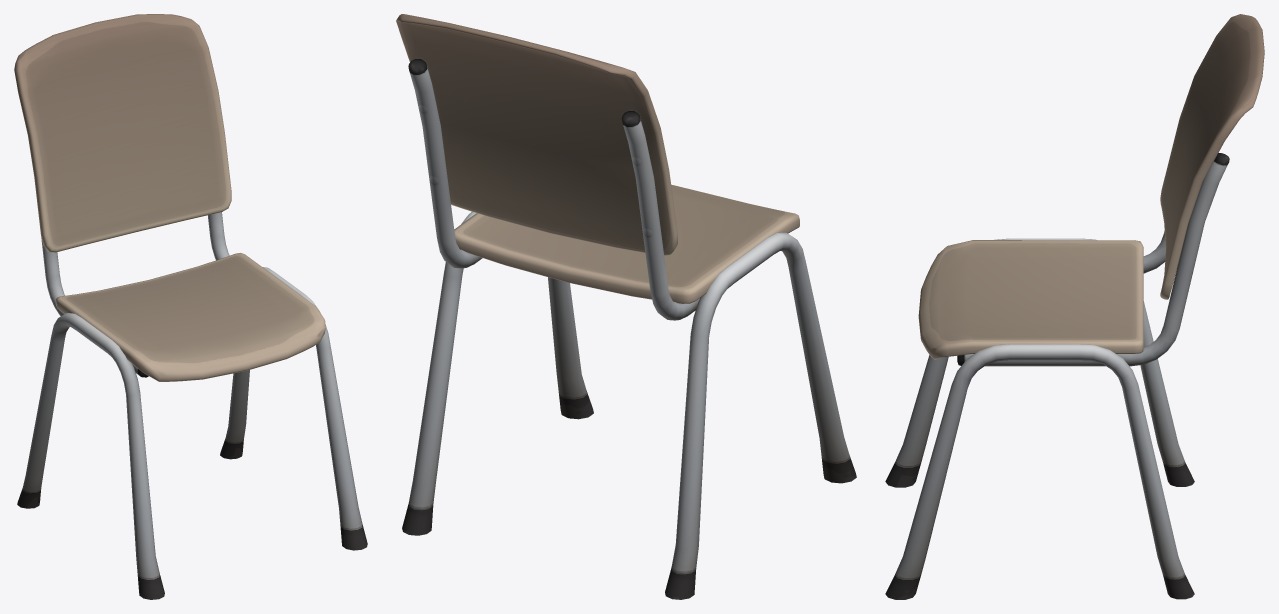
The model's file is OfficeChair07.FBX.
3 views of the same model, side by side, from view 1: azimuth 30°, elevation 25°; view 2: azimuth 150°, elevation 25°; view 3: azimuth 270°, elevation 25° (orthographic). The views are drawn at different scales.
Visible parts, largest first — view 1: OfficeChair07; view 2: OfficeChair07; view 3: OfficeChair07.
Boxes of the visible parts, x1,y1,x2,y2 form: OfficeChair07: (14,14,367,599); OfficeChair07: (396,14,856,599); OfficeChair07: (885,14,1264,599).
Size of the model in its own units: 3.86 by 7.09 by 4.99.
